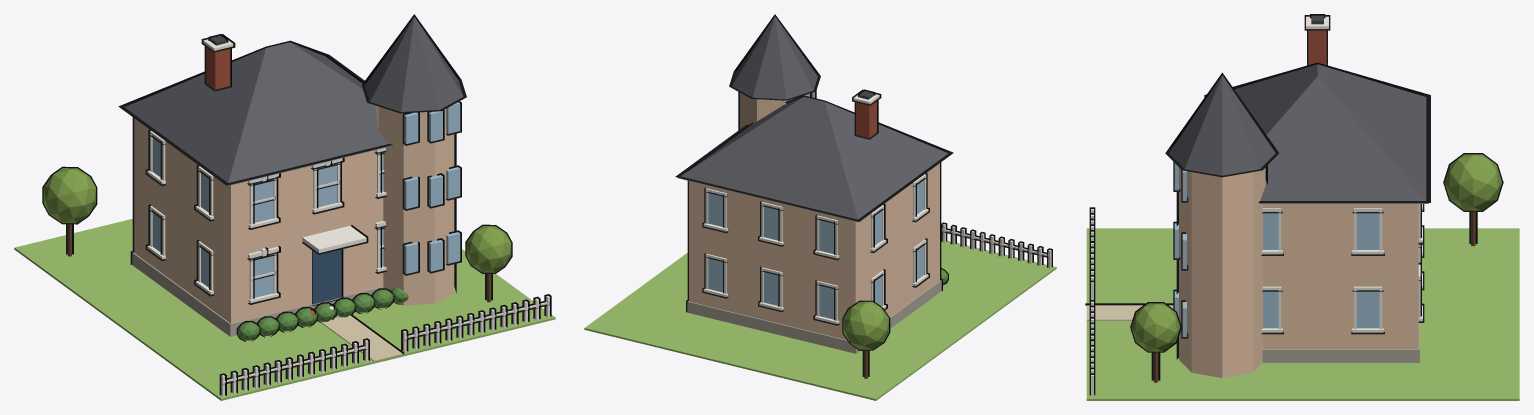
File: Konut_villa_1.fbx
The picture shows the model from 3 angles, left to right: view 1: azimuth 30°, elevation 25°; view 2: azimuth 150°, elevation 25°; view 3: azimuth 270°, elevation 25°; orthographic projection. The views are drawn at different scales.
Parts seen in each view (by area): view 1: Konut_villa_1; view 2: Konut_villa_1; view 3: Konut_villa_1.
Boxes of the visible parts, x1,y1,x2,y2 form: Konut_villa_1: (14,14,555,400); Konut_villa_1: (584,14,1056,400); Konut_villa_1: (1085,14,1519,400).
Bounding box in the file's own units: 14 × 11.07 × 15.05.
